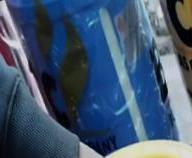cylinder: (1, 1, 192, 158)
